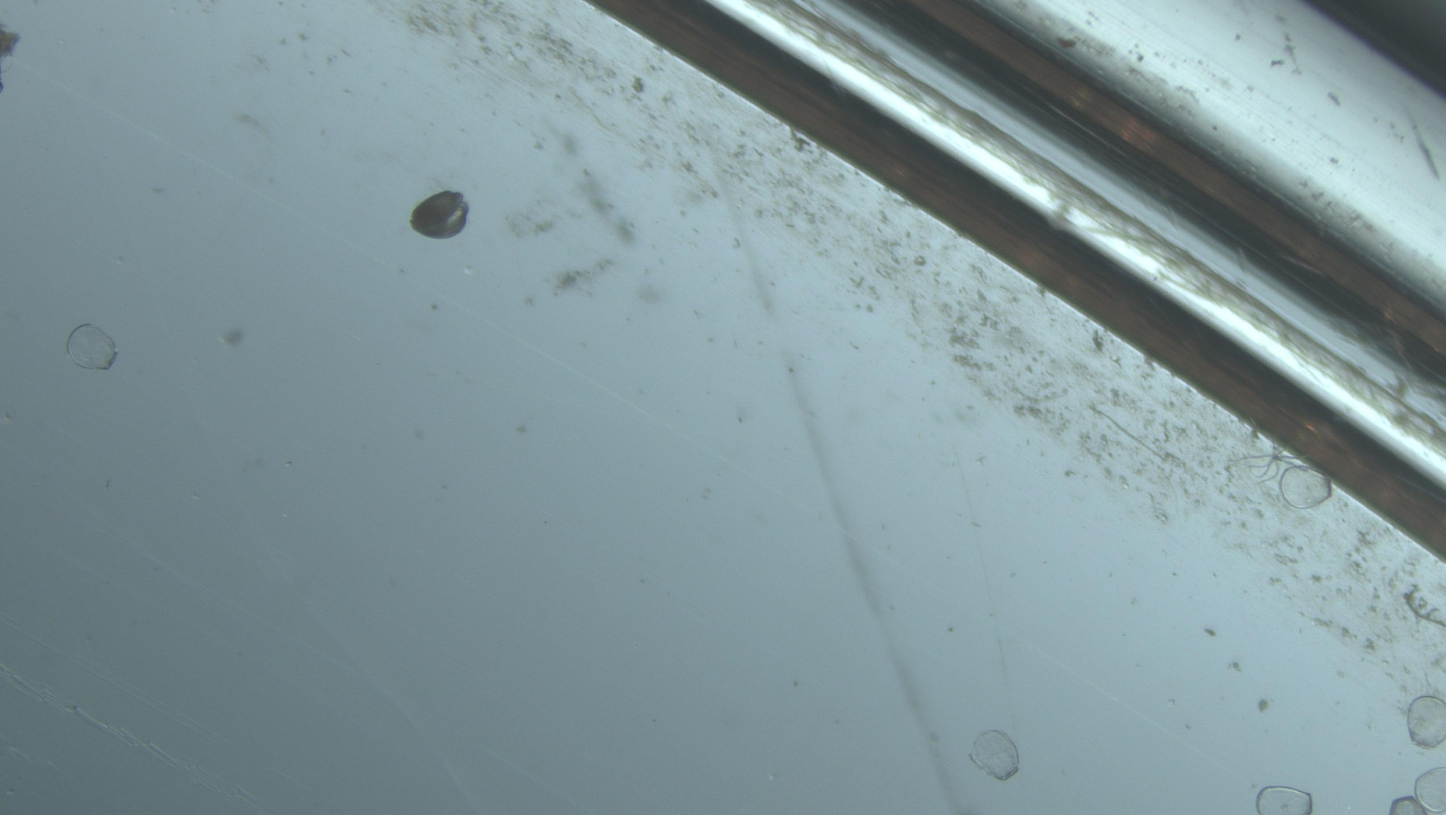dead: (970, 731, 1020, 781), (66, 324, 117, 370), (1279, 465, 1333, 508), (1407, 696, 1446, 749), (1257, 787, 1313, 815), (1415, 768, 1446, 815), (1391, 796, 1428, 815)
live: (410, 191, 469, 239)
